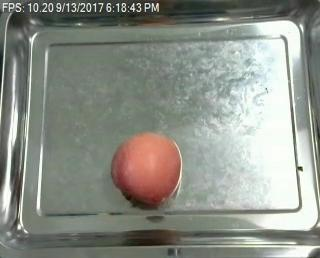apple: (111, 132, 183, 210)
